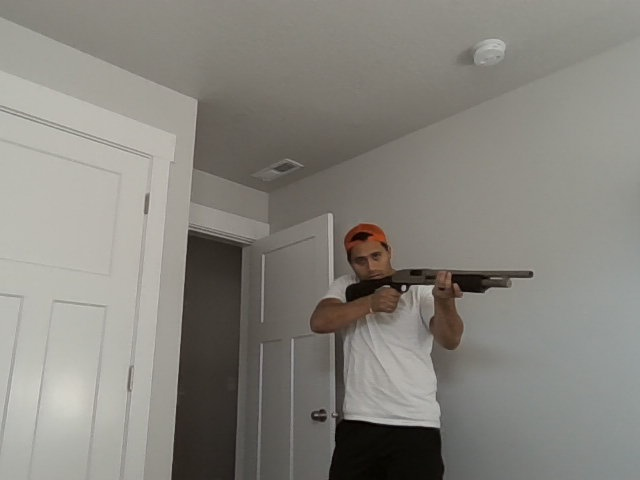shotgun: (344, 265, 534, 307)
